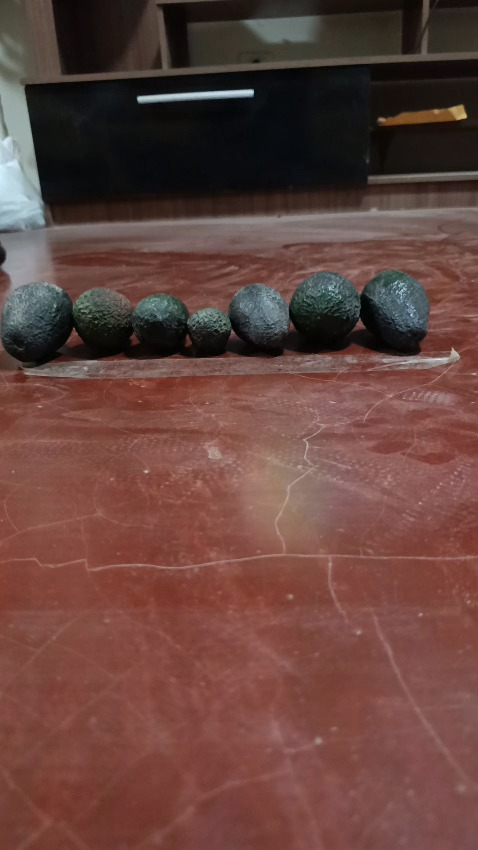Primera: (0, 282, 74, 362), (360, 268, 430, 351), (288, 271, 362, 346)
Segunda: (71, 286, 135, 354), (228, 283, 290, 349), (131, 293, 190, 353)
Tercera: (185, 307, 231, 356)
